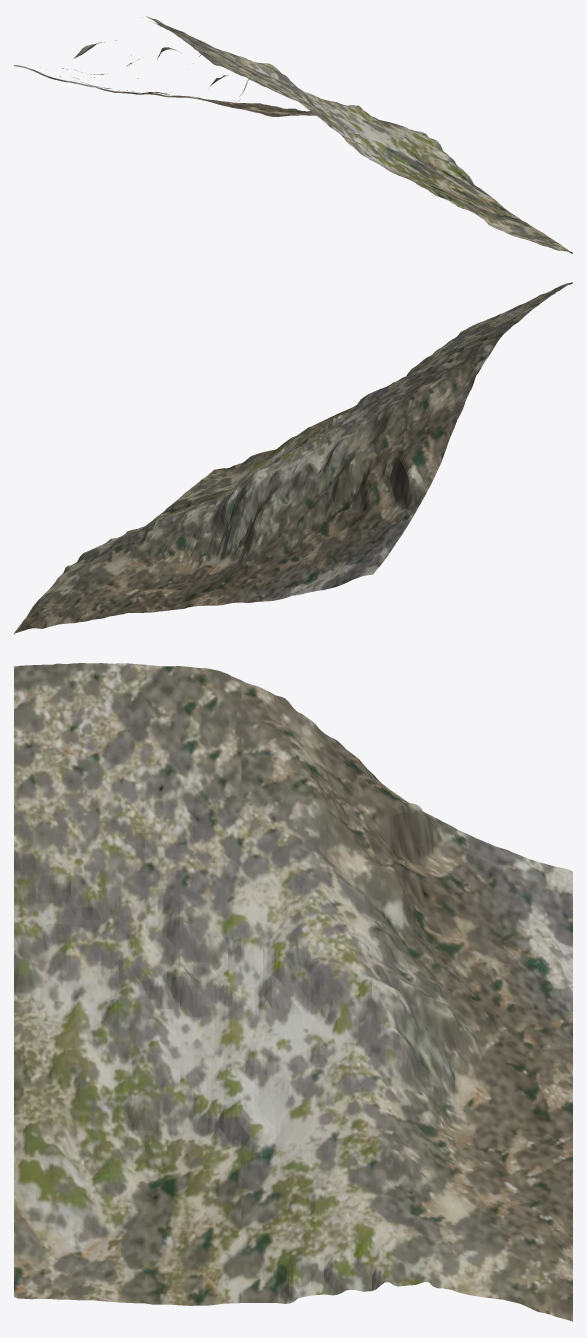
3 renders of one model, top to bottom at view 1: azimuth 30°, elevation 25°; view 2: azimuth 150°, elevation 25°; view 3: azimuth 270°, elevation 25°, orthographic. The views are drawn at different scales.
Bounding box in the file's own units: 250 × 197 × 241.
1 material, 1 textured.
